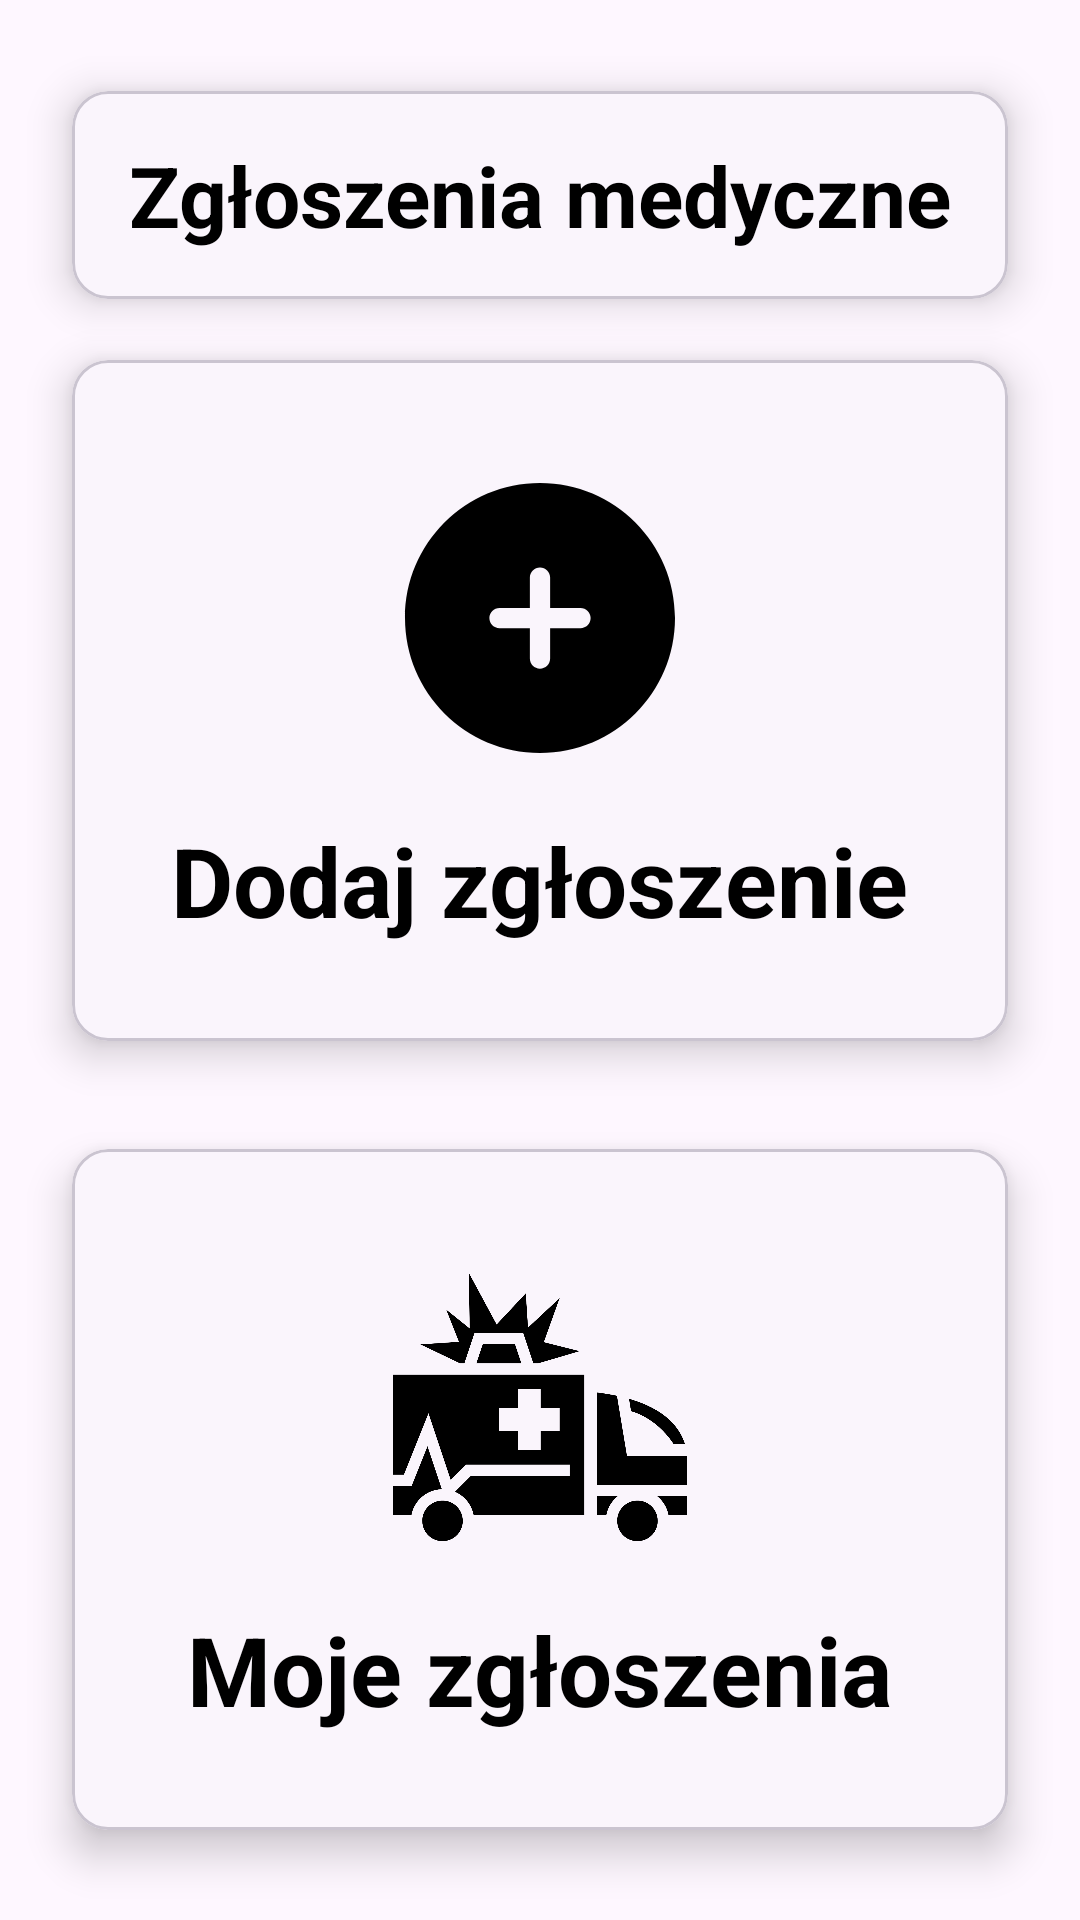

Screen size 1080w x 1920h. Icon name, then its center in pixels as (x,y):
add circle: (540,618)
ambulance: (540,1407)
